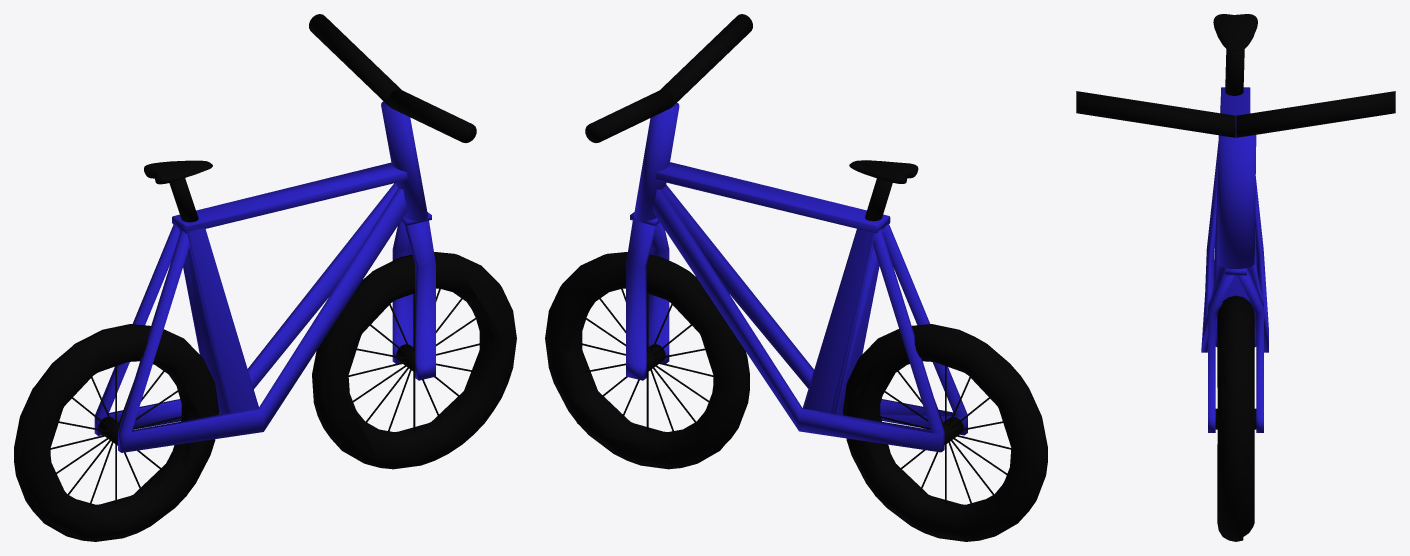
Rendered from Fahrrad.fbx.
3 renders of one model, left to right at view 1: azimuth 30°, elevation 25°; view 2: azimuth 150°, elevation 25°; view 3: azimuth 270°, elevation 25°, orthographic. The views are drawn at different scales.
Visible parts, largest first — view 1: Fahrrad_LOD0; view 2: Fahrrad_LOD0; view 3: Fahrrad_LOD0.
Boxes of the visible parts, <box> form: Fahrrad_LOD0: <box>14,14,516,541</box>; Fahrrad_LOD0: <box>545,14,1047,541</box>; Fahrrad_LOD0: <box>1076,14,1395,541</box>.
Size of what is drawn, in the model's own units: 1.64 by 1.26 by 0.8526.
